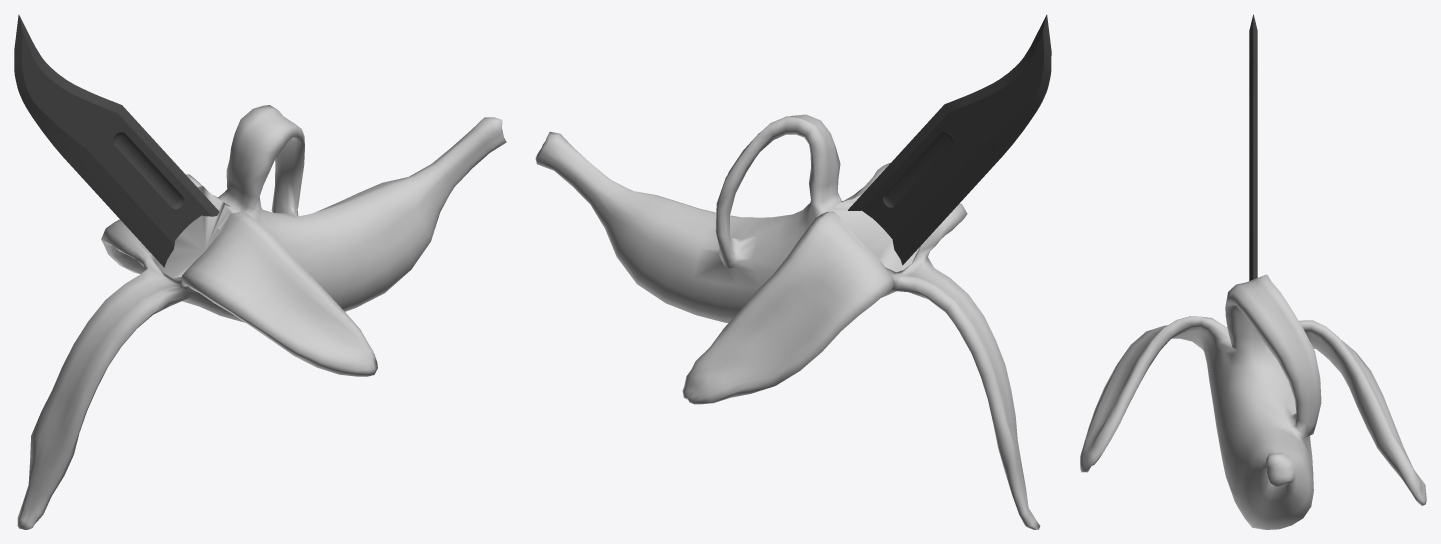
File: knifeBanano-Blender.fbx
3 views of the same model, side by side, from view 1: azimuth 30°, elevation 25°; view 2: azimuth 150°, elevation 25°; view 3: azimuth 270°, elevation 25° (orthographic). The views are drawn at different scales.
Visible parts, largest first — view 1: 018P_01SET_05SHOT_4, Cube.001; view 2: 018P_01SET_05SHOT_4, Cube.001; view 3: 018P_01SET_05SHOT_4, Cube.001.
Part boxes in pixels (bbox=[...]): 018P_01SET_05SHOT_4: bbox=[17, 105, 506, 529]; Cube.001: bbox=[14, 14, 219, 267]; 018P_01SET_05SHOT_4: bbox=[535, 114, 1040, 529]; Cube.001: bbox=[848, 14, 1051, 265]; 018P_01SET_05SHOT_4: bbox=[1080, 274, 1426, 529]; Cube.001: bbox=[1249, 14, 1257, 280].
Bounding box in the file's own units: 3633 × 3588 × 2309.
